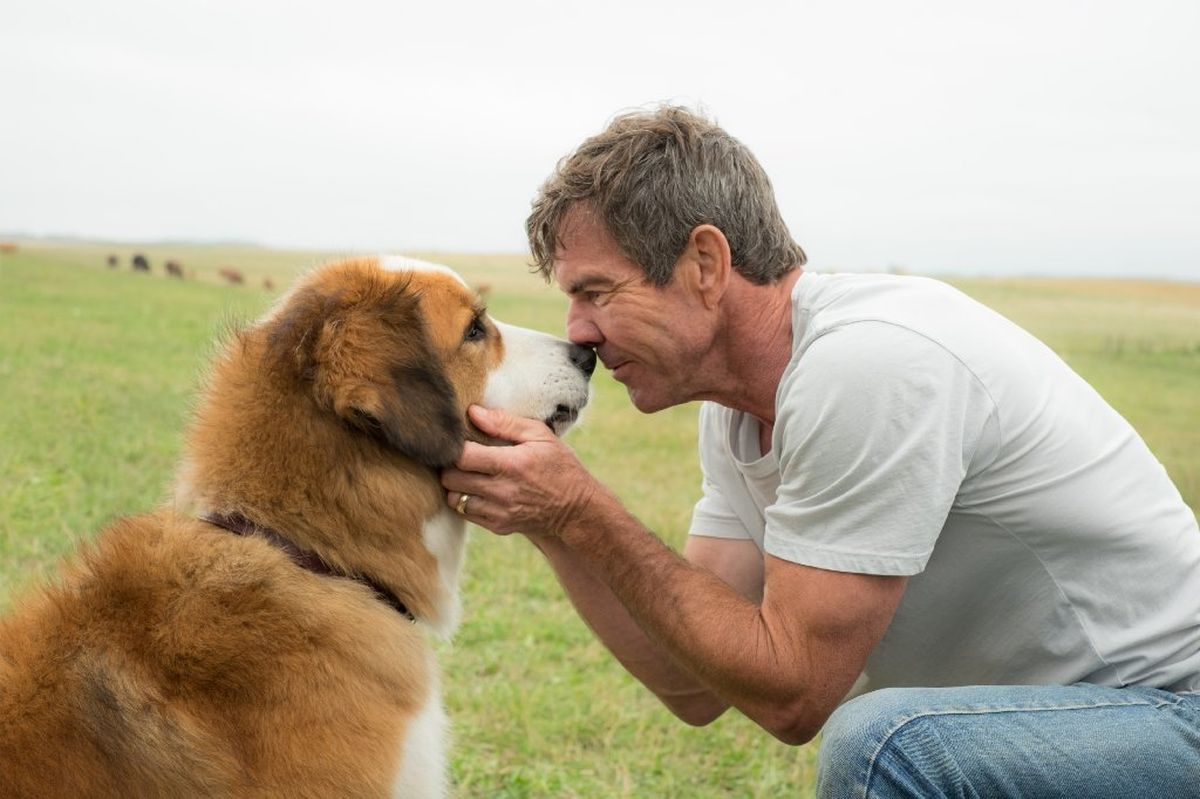dog: (1, 250, 581, 799)
